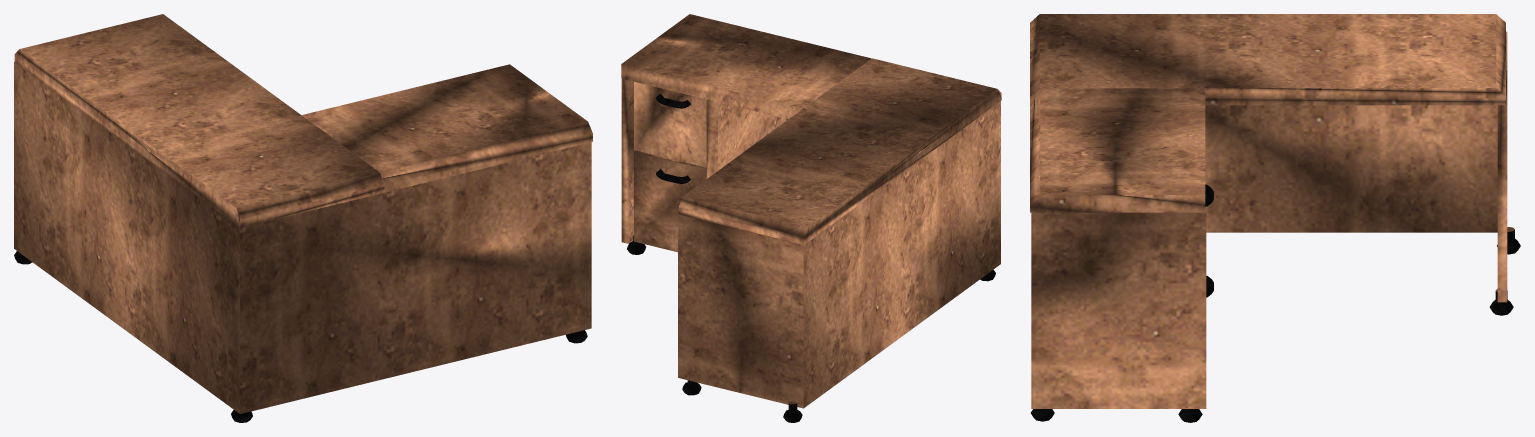
Rendered from Desk.glb.
3 views of the same model, side by side, from view 1: azimuth 30°, elevation 25°; view 2: azimuth 150°, elevation 25°; view 3: azimuth 270°, elevation 25° (orthographic). The views are drawn at different scales.
Visible parts, largest first — view 1: triangle #377; view 2: triangle #377; view 3: triangle #377.
Boxes of the visible parts, x1,y1,x2,y2 form: triangle #377: (14, 14, 592, 422); triangle #377: (621, 14, 1001, 422); triangle #377: (1030, 14, 1520, 422).
Size of the model in its own units: 3.53 by 2.1 by 4.04.
2 materials, 2 textured.
